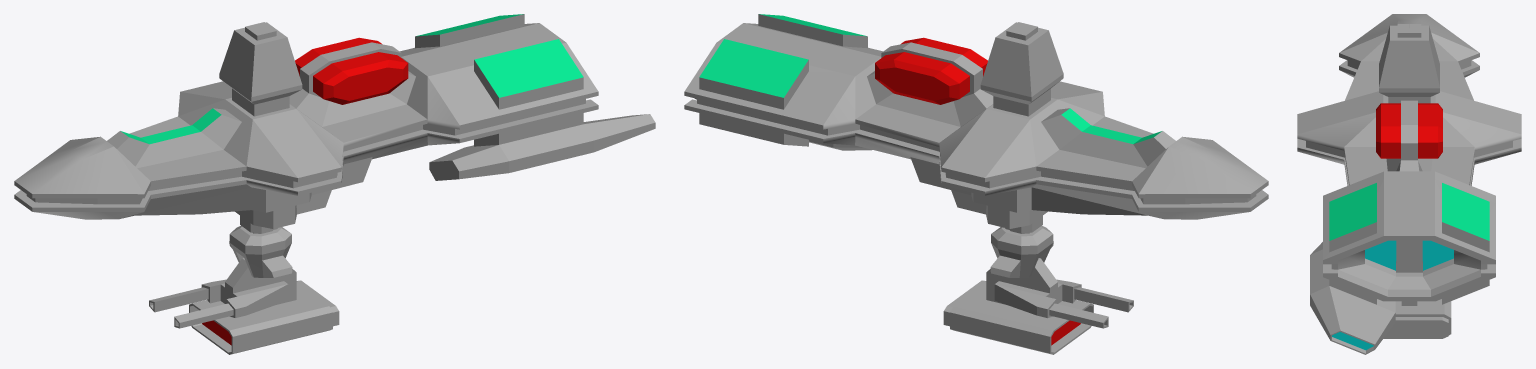
The model's file is SM_FrigateHull.fbx.
3 renders of one model, left to right at view 1: azimuth 30°, elevation 25°; view 2: azimuth 150°, elevation 25°; view 3: azimuth 270°, elevation 25°, orthographic. The views are drawn at different scales.
Parts seen in each view (by area): view 1: polySurface43, polySurface49, polySurface46, polySurface28, polySurface36, polySurface38, polySurface32, polySurface34, polySurface27; view 2: polySurface43, polySurface49, polySurface46, polySurface28, polySurface36, polySurface32, polySurface34, polySurface27; view 3: polySurface43, polySurface49, polySurface38, polySurface34, polySurface32, polySurface36, polySurface28, polySurface46.
Part boxes in pixels (x1,y1,x2,y2): polySurface43: (400,14,598,146); polySurface49: (178,71,427,233); polySurface46: (107,108,251,215); polySurface28: (149,258,339,354); polySurface36: (14,136,150,219); polySurface38: (429,114,655,180); polySurface32: (295,37,408,104); polySurface34: (219,22,302,116); polySurface27: (229,226,292,277); polySurface43: (684,14,882,146); polySurface49: (855,71,1104,233); polySurface46: (1031,108,1175,215); polySurface28: (943,258,1133,354); polySurface36: (1132,136,1268,219); polySurface32: (875,37,987,104); polySurface34: (980,22,1063,116); polySurface27: (990,226,1053,277); polySurface43: (1323,171,1495,304); polySurface49: (1297,91,1521,185); polySurface38: (1310,242,1395,354); polySurface34: (1379,24,1439,103); polySurface32: (1376,100,1442,160); polySurface36: (1339,14,1479,77); polySurface28: (1383,299,1451,338); polySurface46: (1345,61,1473,100).
Bounding box in the file's own units: 1618 × 786 × 559.
